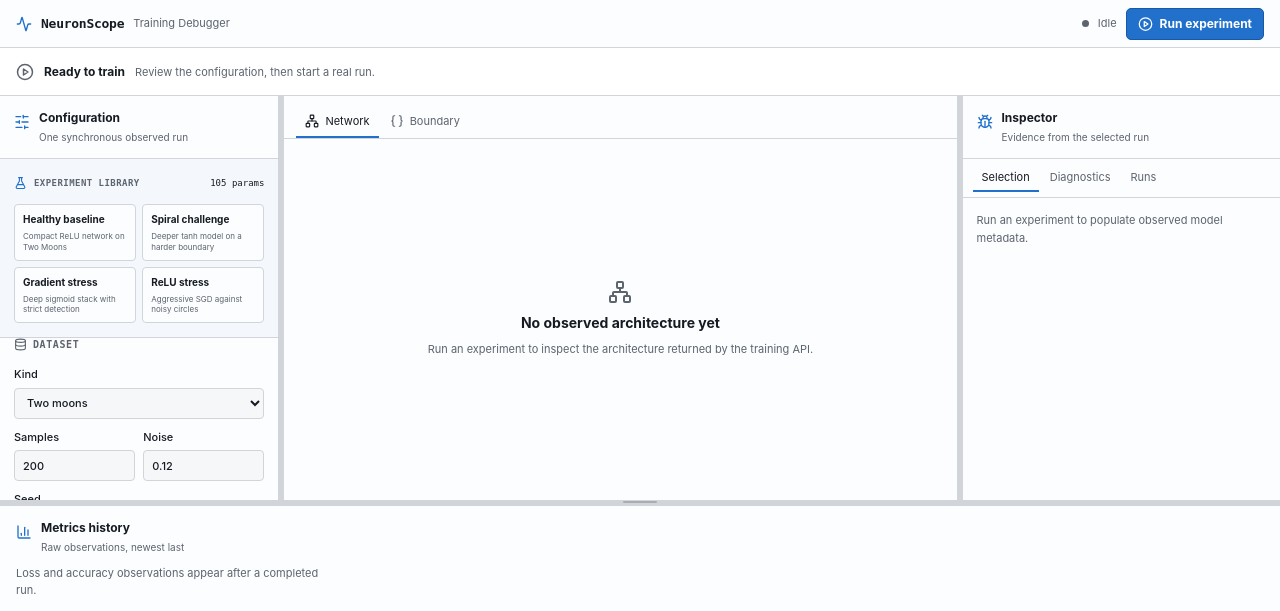
Test: App › applies a complex experiment preset without starting a request
The width and height of the screenshot is (1280, 611).
Click the button "Gradient stress Deep sigmoid stack with strict detection". click: (75, 295)
box: [14, 267, 136, 323]
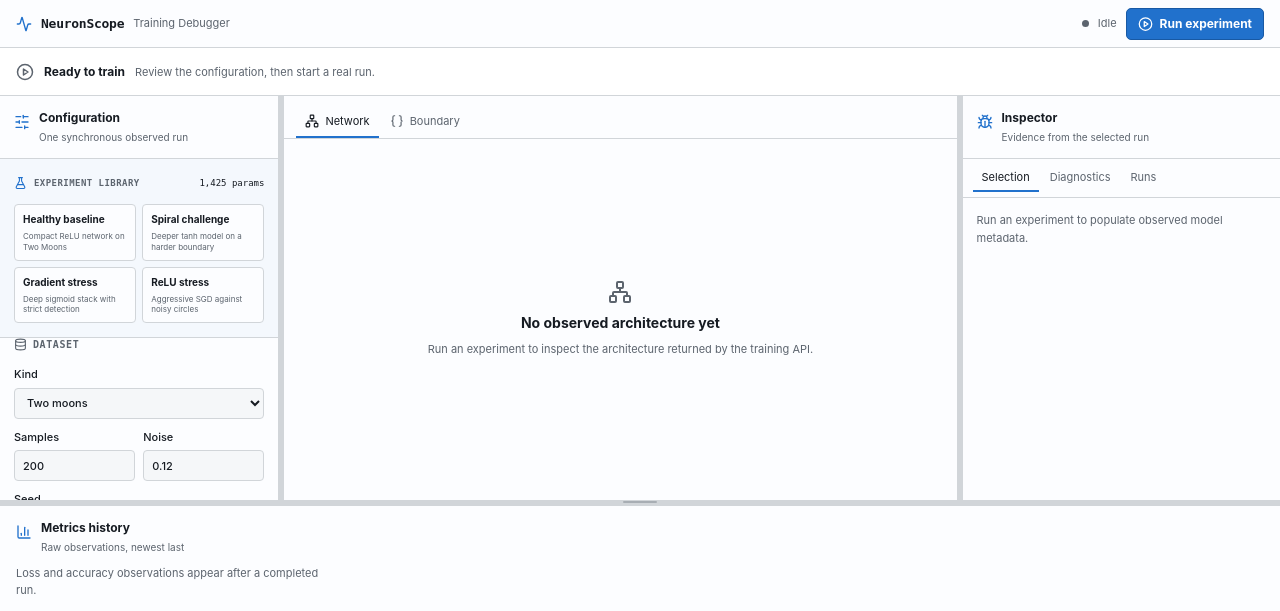
Check: the text "1,425 params" is shown, box [199, 178, 264, 188]
